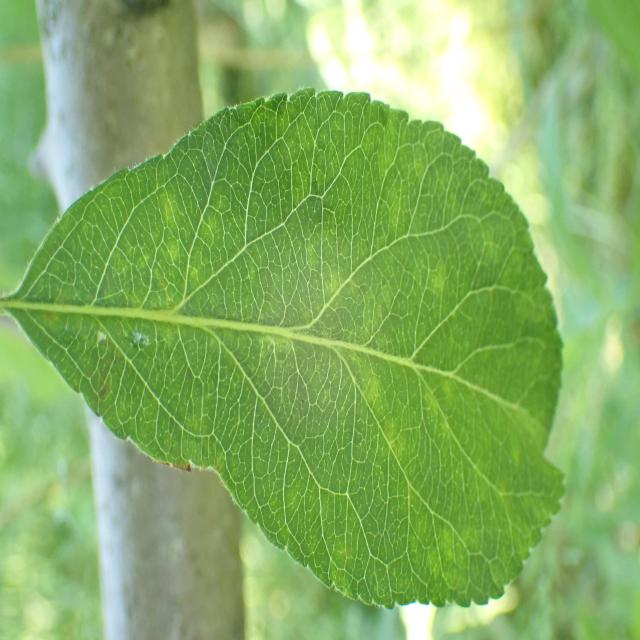scab: (68, 132, 544, 531)
